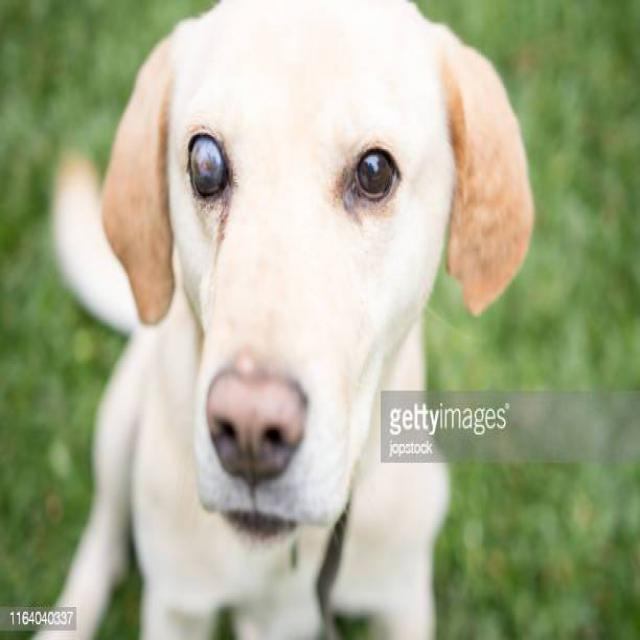eye: (183, 126, 233, 204), (348, 141, 402, 208)
